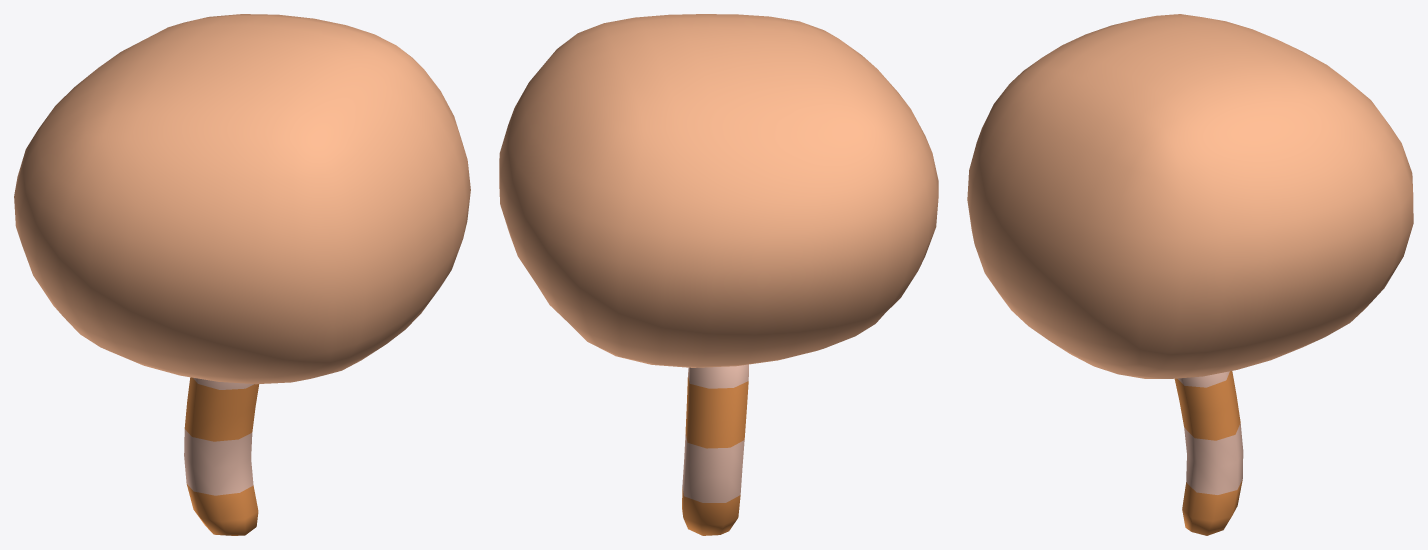
File: Tree_Marshmallow_01.fbx
3 views of the same model, side by side, from view 1: azimuth 30°, elevation 25°; view 2: azimuth 150°, elevation 25°; view 3: azimuth 270°, elevation 25° (orthographic). The views are drawn at different scales.
Visible parts, largest first — view 1: Tree_Marshmallow_01_LOD0; view 2: Tree_Marshmallow_01_LOD0; view 3: Tree_Marshmallow_01_LOD0.
Boxes of the visible parts, bbox=[...] form: Tree_Marshmallow_01_LOD0: bbox=[14, 14, 470, 535]; Tree_Marshmallow_01_LOD0: bbox=[499, 14, 938, 535]; Tree_Marshmallow_01_LOD0: bbox=[967, 14, 1413, 535].
Size of what is drawn, in the model's own units: 522 by 603 by 503.
